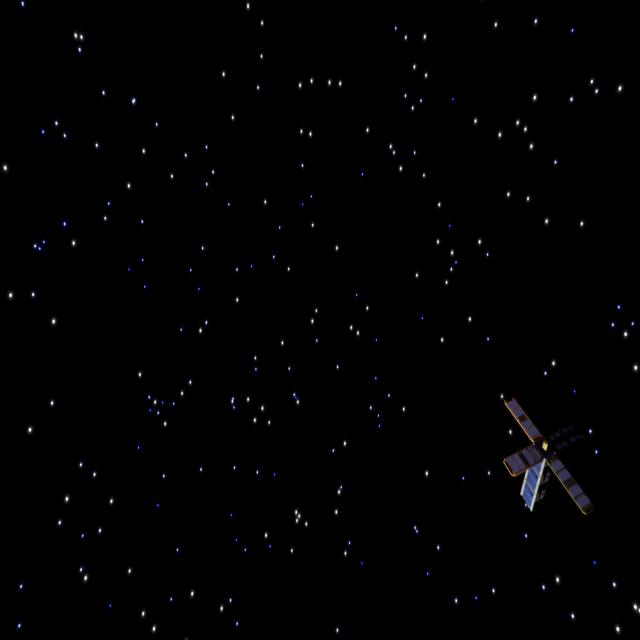satellite: (491, 397, 592, 522)
